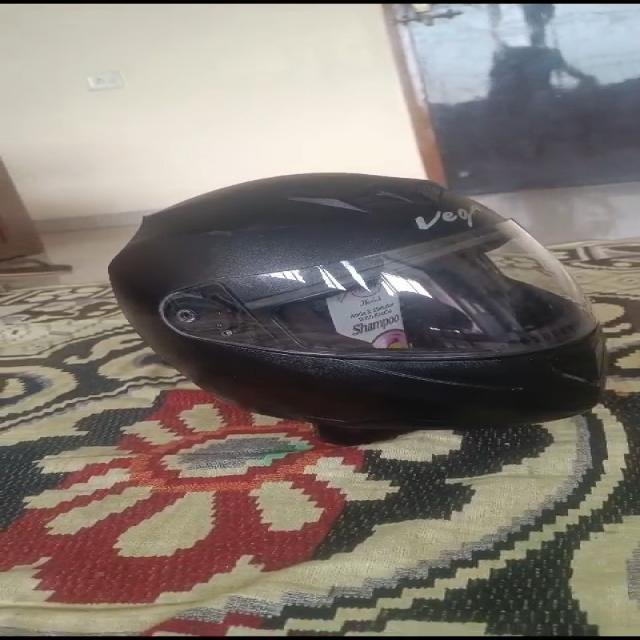Helmet: (108, 173, 607, 440)
